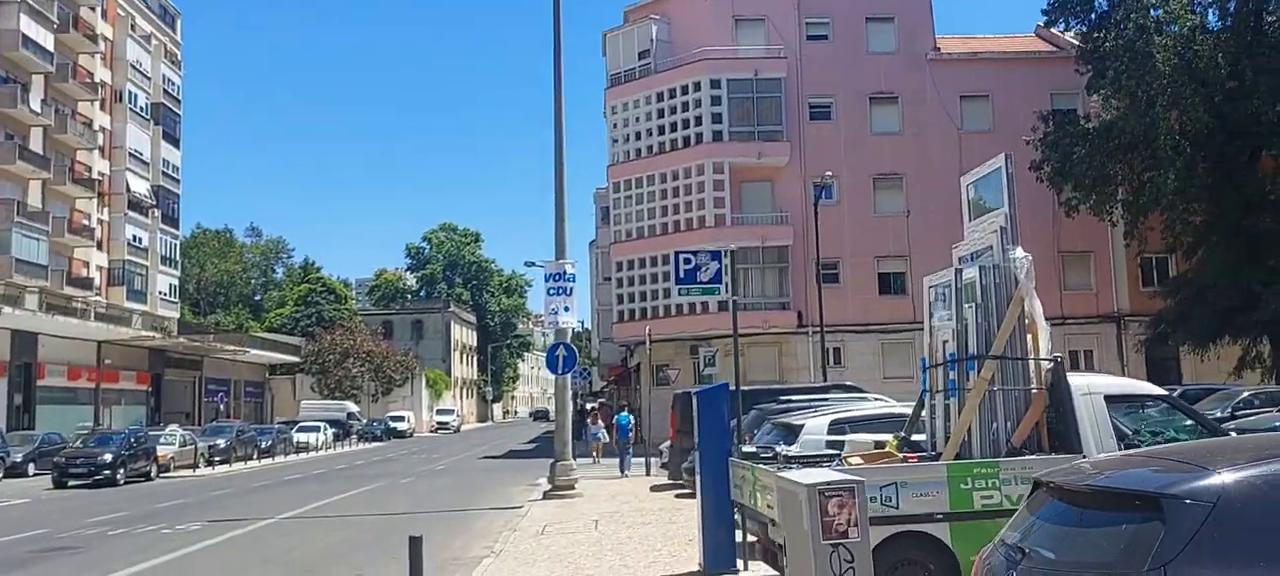sentido obrigatorio: (545, 341, 578, 379)
